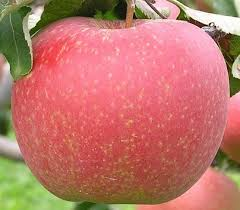apple: (11, 15, 229, 204)
